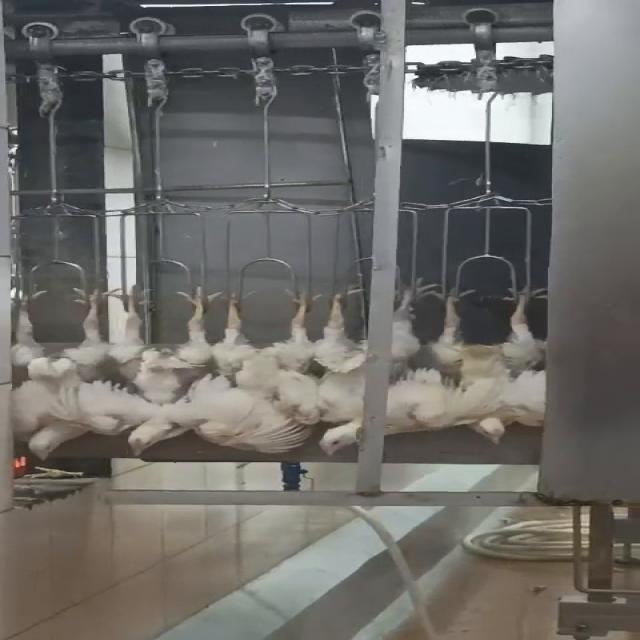chicken: (391, 283, 549, 444), (94, 286, 230, 462), (0, 286, 128, 466), (185, 285, 317, 455), (302, 282, 384, 456)
